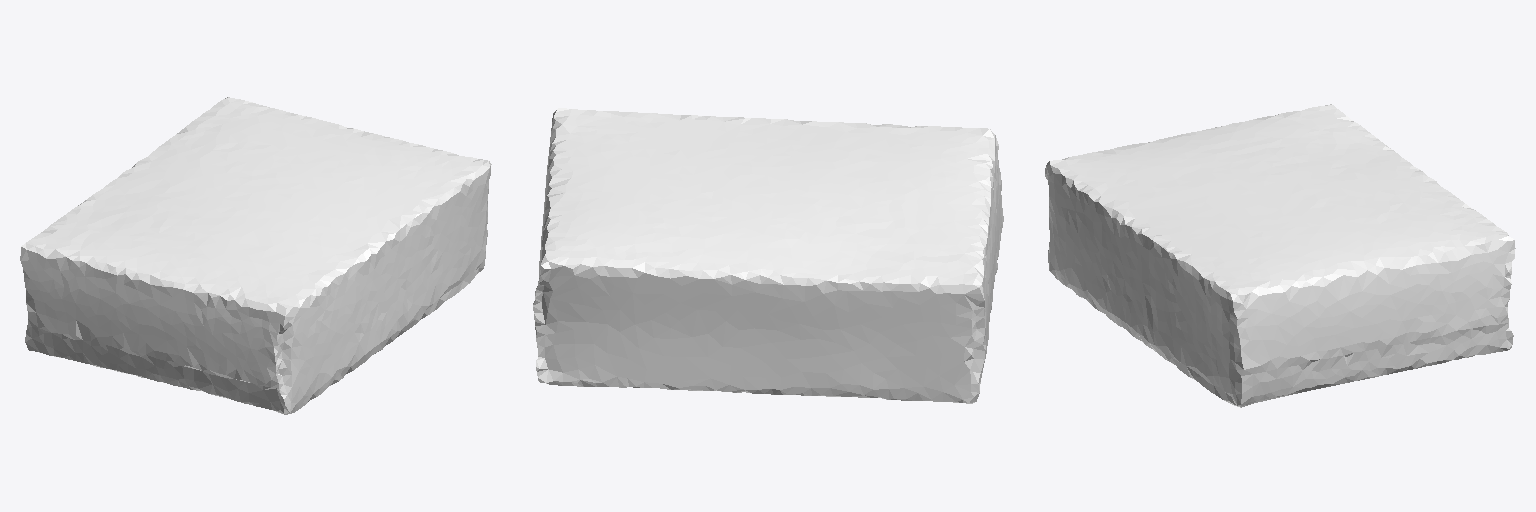
The robot description file, URDF, robot "Tomato_soup_can":
<?xml version="1.0" ?>
<robot name="Tomato_soup_can">
  <link name="Link">

    <inertial>
      <origin rpy="0 0 0" xyz="0.001518 0.018796 0.018658"/>
       <mass value="0.05130000"/>

       <inertia ixx="0.00000027730" ixy="-0.00000000014" ixz="-0.00000000076"
                iyy="0.00000034573" iyz="0.00000000034"
                izz="0.00000055128"/>
    </inertial>
    <visual>
      <origin rpy="0 0 0" xyz="0 0 0"/>
      <geometry>
            <mesh filename="textured2.obj" scale="1 1 1"/>
      </geometry>
        <material name="framemat0">
        <color rgba="1 1 1 1"/>
      </material>
    </visual>

    <collision>
      <geometry>
	 	 <mesh filename="textured2.obj" scale="1 1 1"/>
      </geometry>
    </collision>
  </link>
</robot>

--- Render facts (derived) ---
Views: 3 orthographic renders of the robot side by side, from view 1: azimuth 30°, elevation 25°; view 2: azimuth 150°, elevation 25°; view 3: azimuth 270°, elevation 25°.
Model Tomato_soup_can with 1 links and 0 joints (none), rooted at Link, posed every joint at zero.
Links seen in each view (by area): view 1: Link; view 2: Link; view 3: Link.
Boxes of the visible links, left/top/right/bottom form: Link: left=20, top=97, right=491, bottom=414; Link: left=533, top=108, right=1003, bottom=403; Link: left=1045, top=104, right=1515, bottom=407.
Size in the robot's own frame: 0.138 by 0.1285 by 0.0388 metres.
1 mesh visuals loaded from 1 distinct referenced files (1 OBJ).